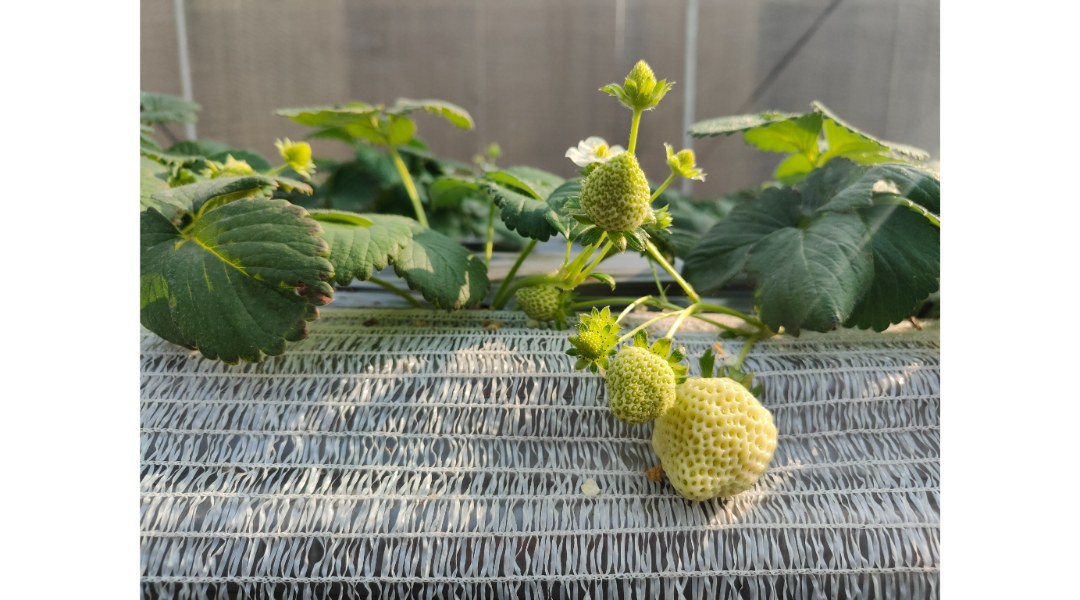berry: (645, 367, 781, 507), (596, 322, 688, 433), (574, 144, 658, 250), (594, 47, 683, 124), (568, 311, 620, 377), (512, 274, 567, 327), (657, 135, 703, 189), (259, 134, 315, 177)
flower: (563, 131, 622, 165)
strain: (644, 232, 698, 303), (389, 152, 431, 230), (698, 298, 758, 324), (609, 318, 662, 346), (603, 298, 645, 330), (660, 307, 695, 345), (649, 264, 670, 301), (484, 202, 496, 266)
